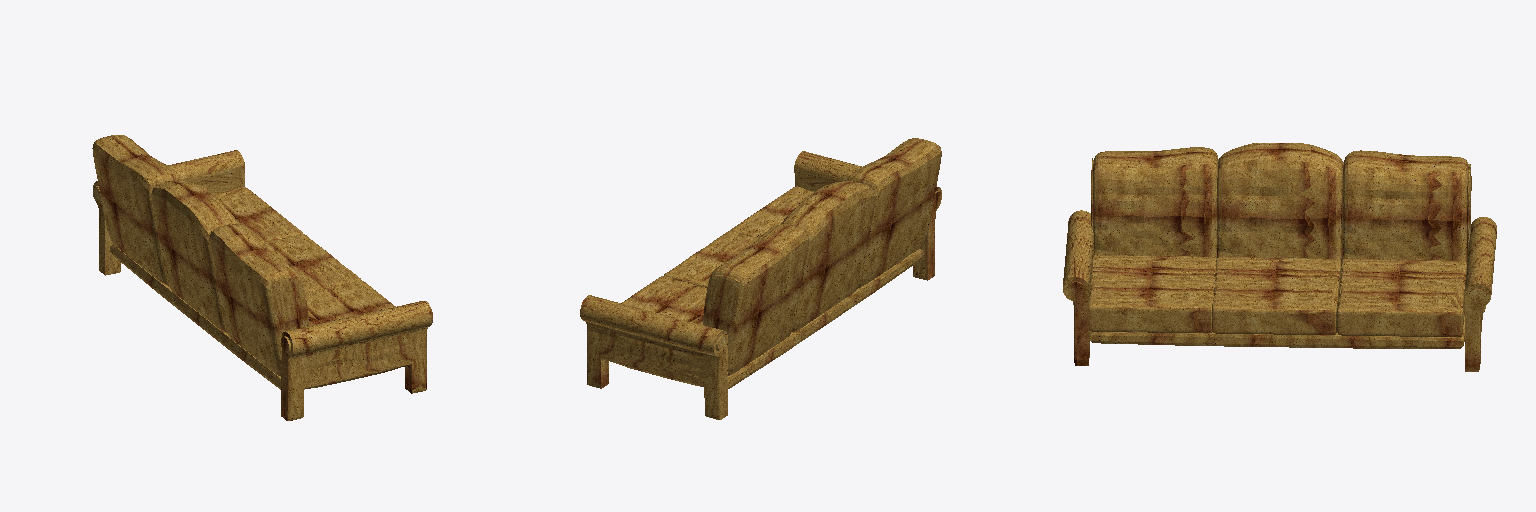
3 renders of one model, left to right at view 1: azimuth 30°, elevation 25°; view 2: azimuth 150°, elevation 25°; view 3: azimuth 270°, elevation 25°, orthographic.
Visible parts, largest first — view 1: GREEN_COUCH_Cube.019; view 2: GREEN_COUCH_Cube.019; view 3: GREEN_COUCH_Cube.019.
Part boxes in pixels (x1,y1,x2,y2): GREEN_COUCH_Cube.019: (92,135,432,420); GREEN_COUCH_Cube.019: (580,138,941,419); GREEN_COUCH_Cube.019: (1063,143,1496,371).
Bounding box in the file's own units: 2.67 × 2.31 × 5.97.
Materials: 1 (1 with a texture image).